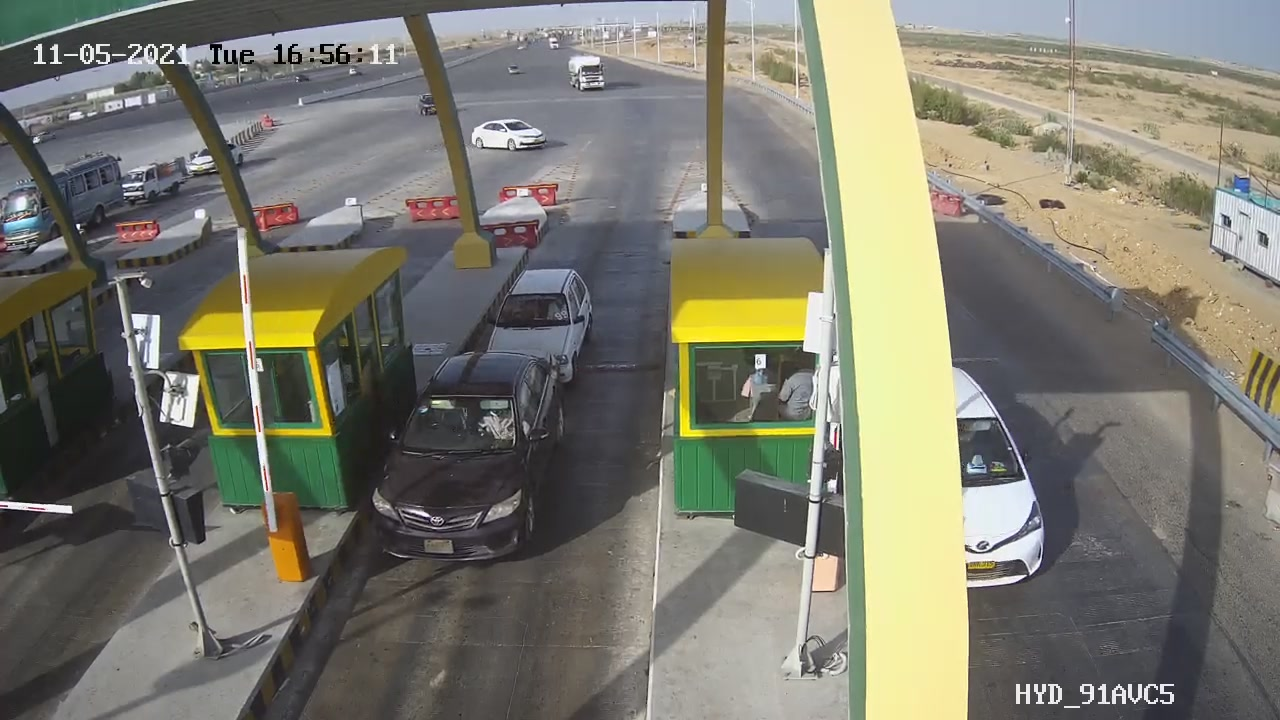F1: (350, 336, 587, 588), (474, 254, 613, 401)
